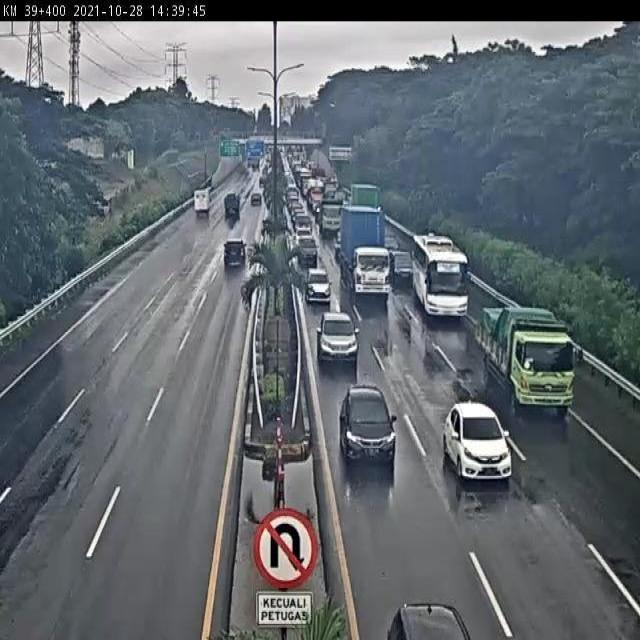big bus: (410, 220, 474, 328)
big truck: (336, 200, 392, 297), (348, 177, 385, 220)
car: (438, 395, 515, 492), (334, 383, 405, 473), (387, 596, 475, 640), (314, 308, 366, 377), (299, 266, 333, 310), (386, 247, 417, 292), (219, 239, 247, 273), (295, 230, 321, 266), (292, 224, 314, 248), (247, 188, 264, 216), (293, 210, 315, 230), (223, 191, 240, 216)
mid truck: (471, 285, 582, 424), (313, 196, 347, 239)
small truck: (192, 184, 212, 216)
